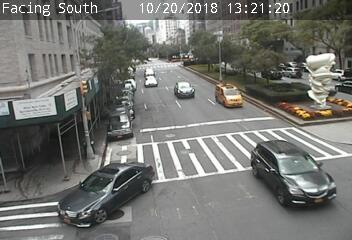car: (57, 162, 154, 227), (252, 140, 335, 210), (215, 84, 241, 107), (174, 82, 194, 98), (145, 76, 156, 87), (144, 68, 154, 76)
